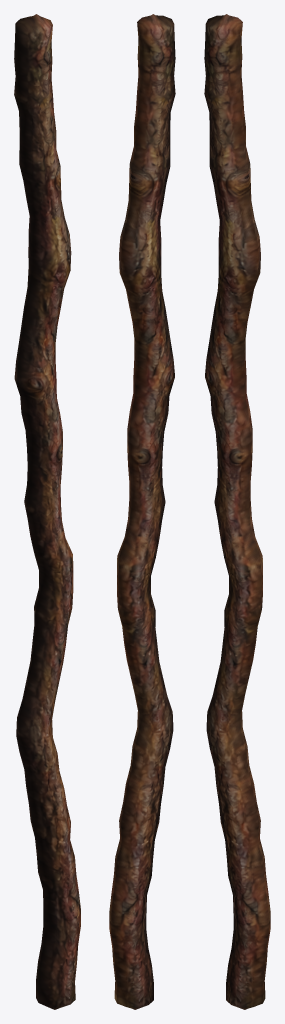
File: mm7_m322_staff.glb
3 views of the same model, side by side, from view 1: azimuth 30°, elevation 25°; view 2: azimuth 210°, elevation 25°; view 3: azimuth 330°, elevation 25° (orthographic).
Visible parts, largest first — view 1: Sword; view 2: Sword; view 3: Sword.
Boxes of the visible parts, x1,y1,x2,y2 form: Sword: (14,14,80,1009); Sword: (109,14,175,1009); Sword: (204,14,270,1009).
Bounding box in the file's own units: 0.097 × 1.5 × 0.0555.
Materials: 1 (1 with a texture image).
